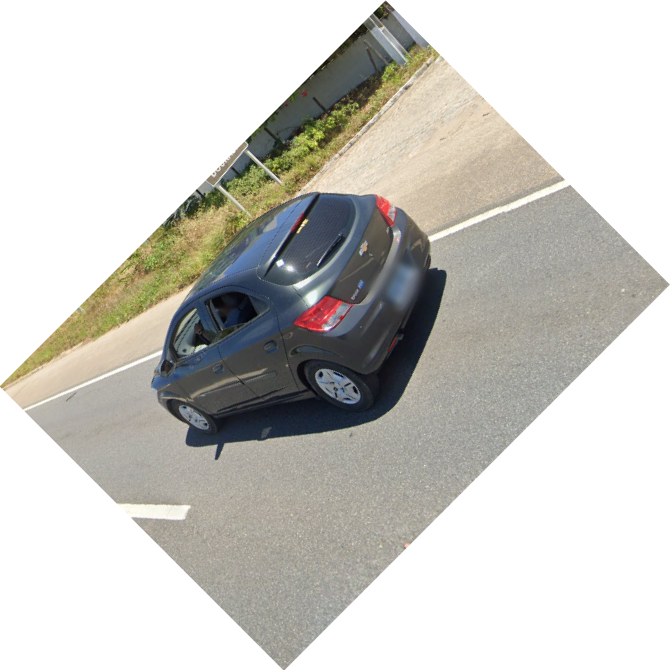car: (148, 190, 433, 435)
